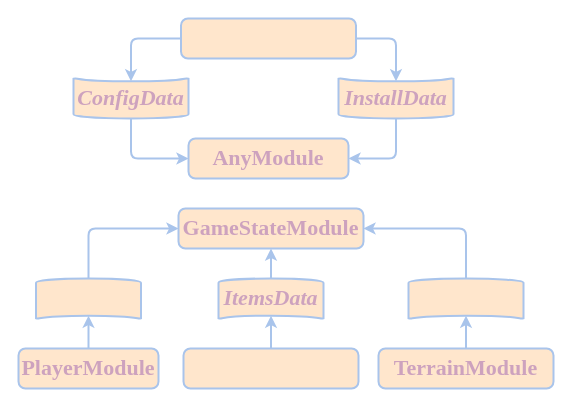
Image size: 571x406. Some labels were removed from this diagram. The centre of each missing label's shape, as x and y in pixels:
"InstallerModule" goes at pixel 268 38.
"PlayerData" goes at pixel 88 298.
"StorageModule" goes at pixel 270 368.
"TerrainData" goes at pixel 465 298.
